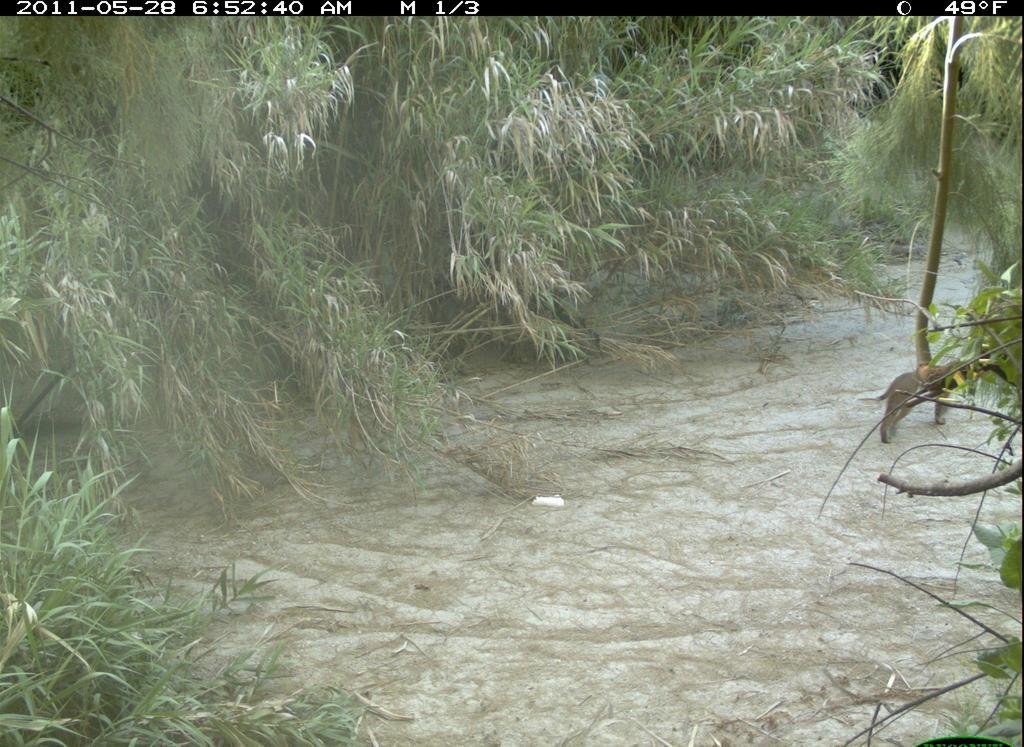bobcat: (858, 350, 1007, 457)
